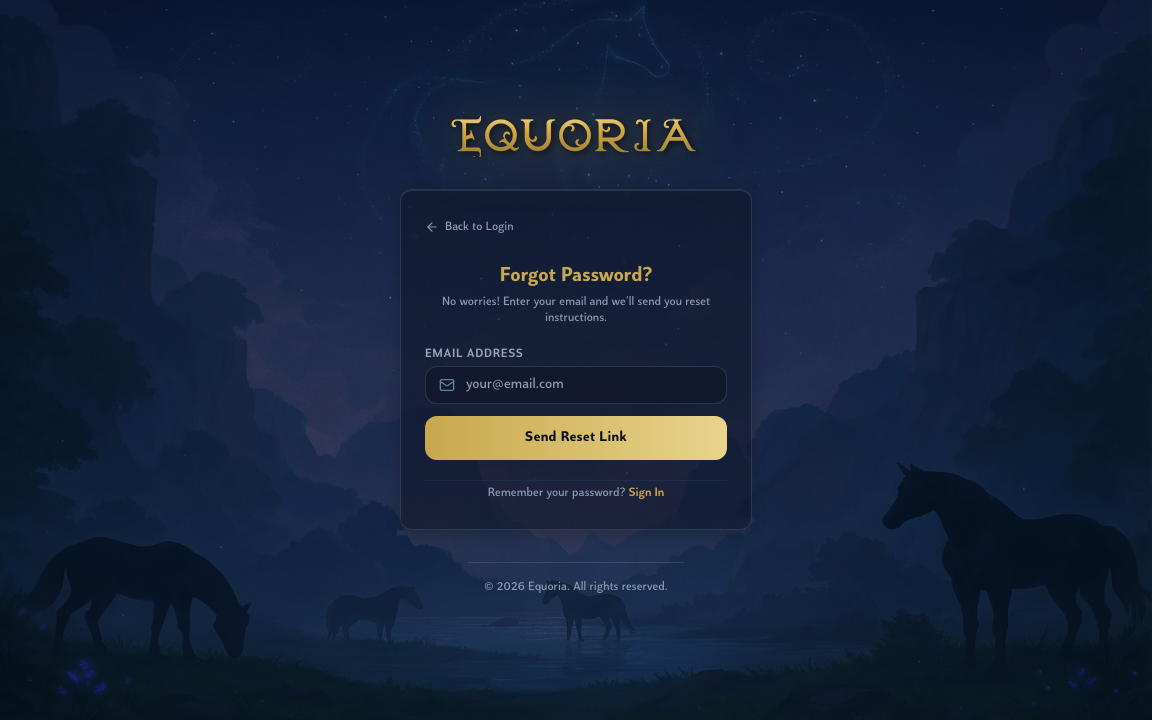
ForgotPasswordPage — refused request (Equoria-mr1kq) › shows mapped copy for a refusal
Type "someone@example.com" into the field with placeholder "your@email.com" at (576,385), box [425,366,727,404]
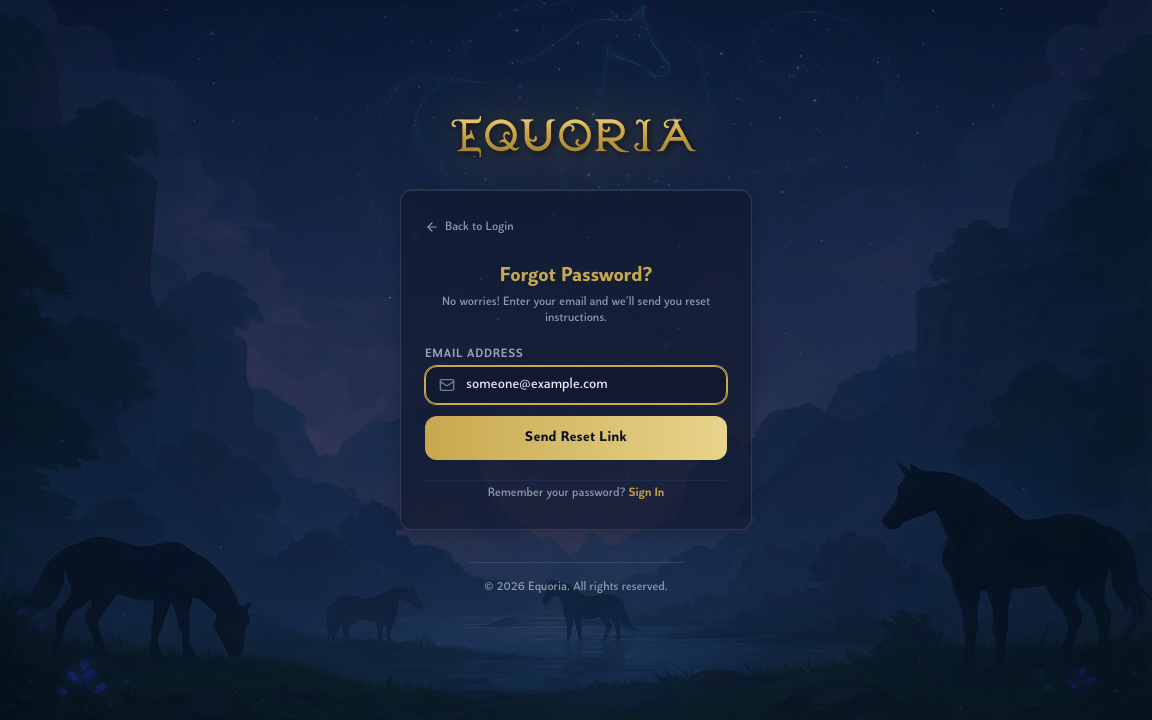
Click the button "Send Reset Link" at (576,438), box [425,416,727,460]
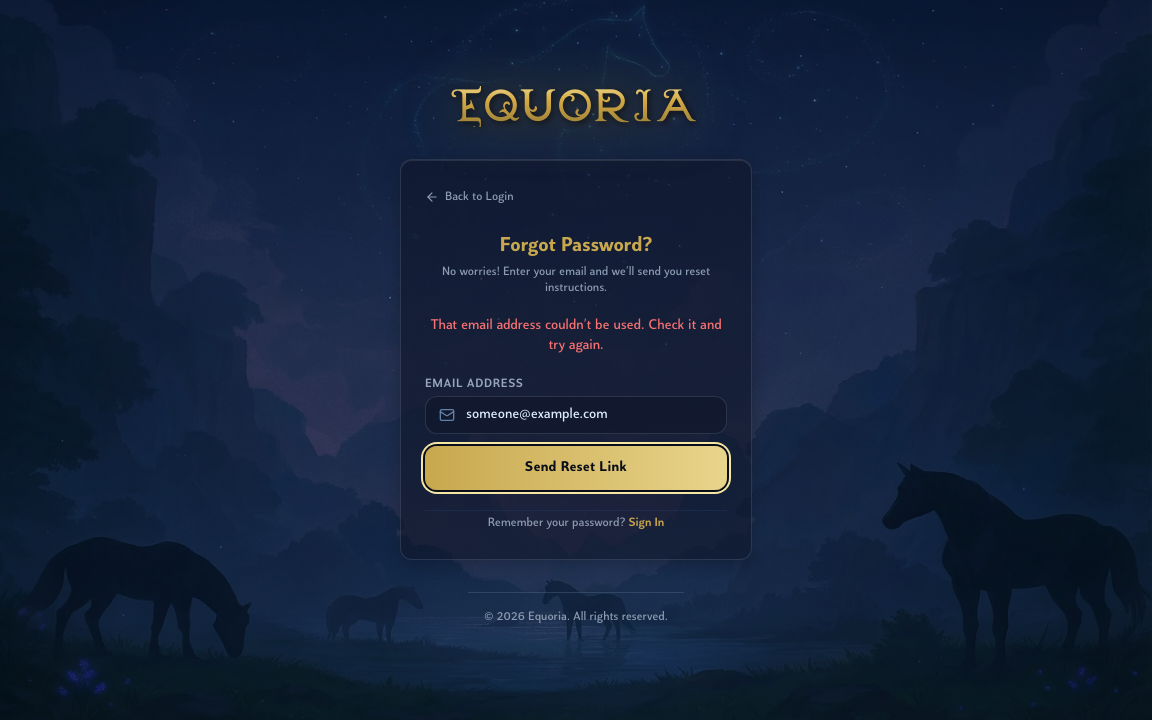
Now the message reads "That email address couldn't be used. Check it and try again.", box [430,318,722,353]
